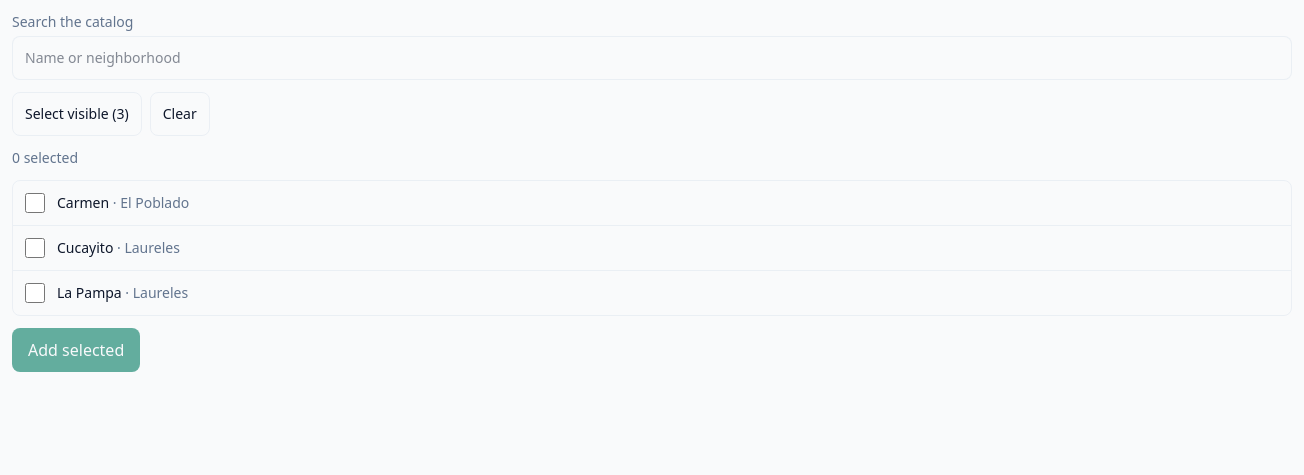
Test: RestaurantPicker › keeps only failed restaurants selected for an immediate retry
Click the checkbox with test id "contest-picker-option" showing "Carmen · El Poblado" at (35, 203), box x1=25 y1=193 x2=45 y2=213
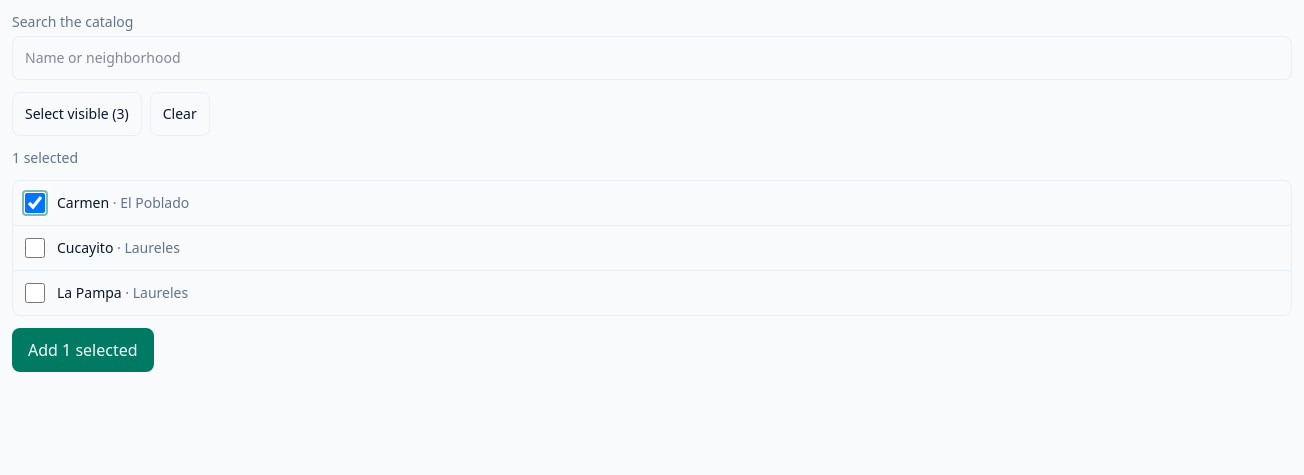
Click the checkbox with test id "contest-picker-option" showing "Cucayito · Laureles" at (35, 248), box x1=25 y1=238 x2=45 y2=258
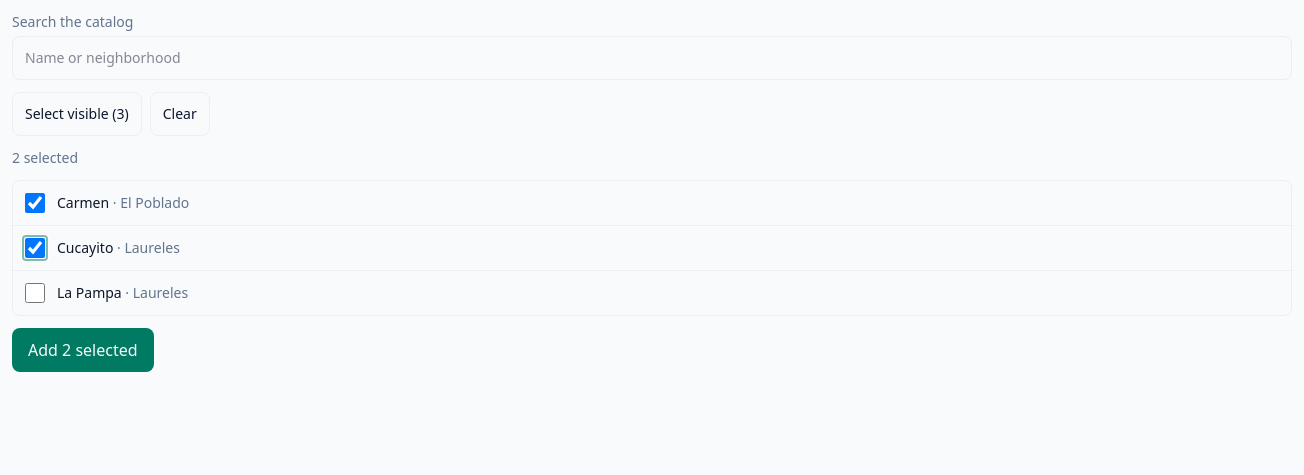
Click the button with test id "contest-link-submit" at (83, 350), box x1=12 y1=328 x2=154 y2=372
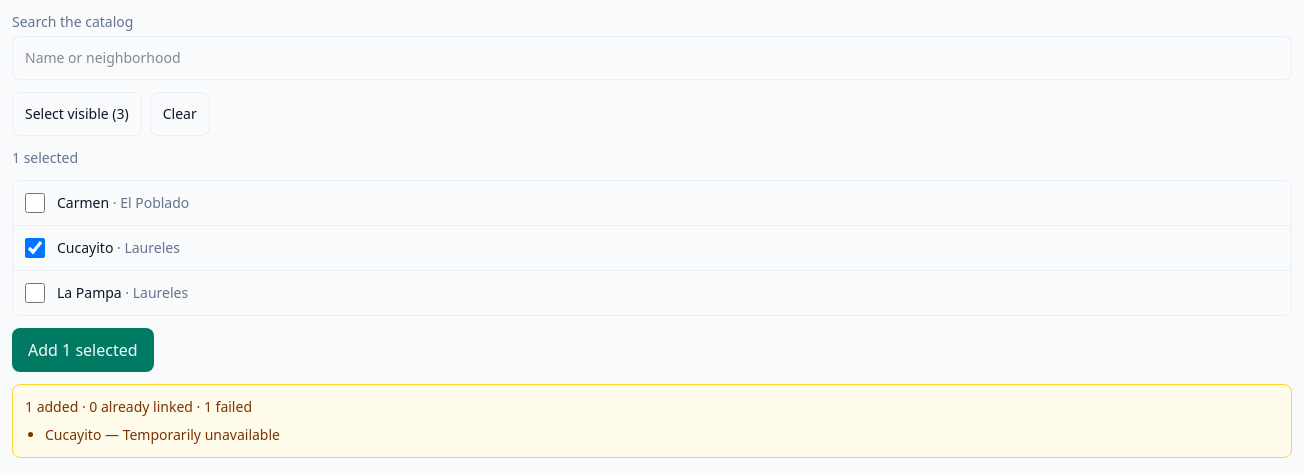
Expected: the checkbox with test id "contest-picker-option" showing "Carmen · El Poblado" is not checked, x1=25 y1=193 x2=45 y2=213
Expected: the text "1 added · 0 already linked · 1 failed" is shown, x1=25 y1=397 x2=252 y2=416
Expected: the message with test id "contest-picker-count" reads "1 selected", x1=12 y1=148 x2=78 y2=167
Click the button with test id "contest-link-submit" at (83, 350), box x1=12 y1=328 x2=154 y2=372
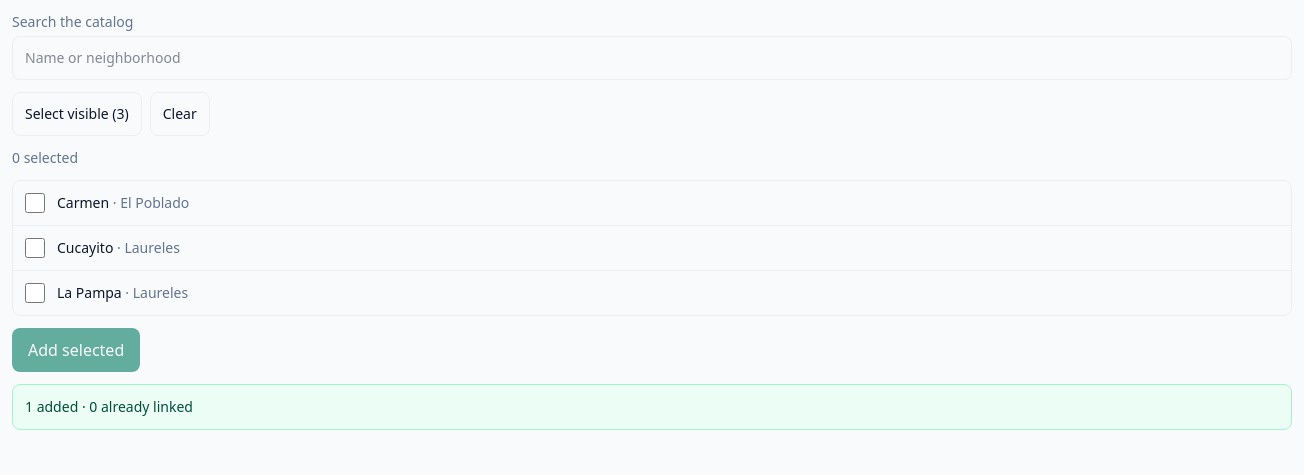
Expected: the text "1 added · 0 already linked" is shown, x1=25 y1=397 x2=193 y2=416
Expected: the message with test id "contest-picker-count" reads "0 selected", x1=12 y1=148 x2=78 y2=167
